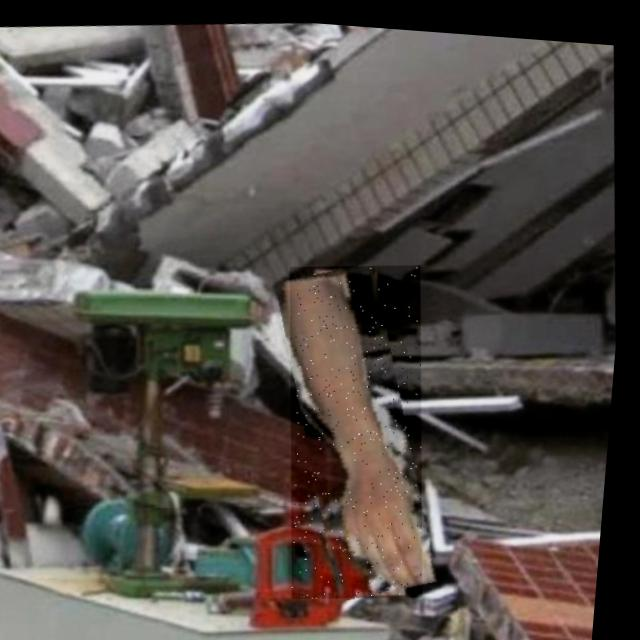Person in Rubble: (273, 251, 453, 601)
